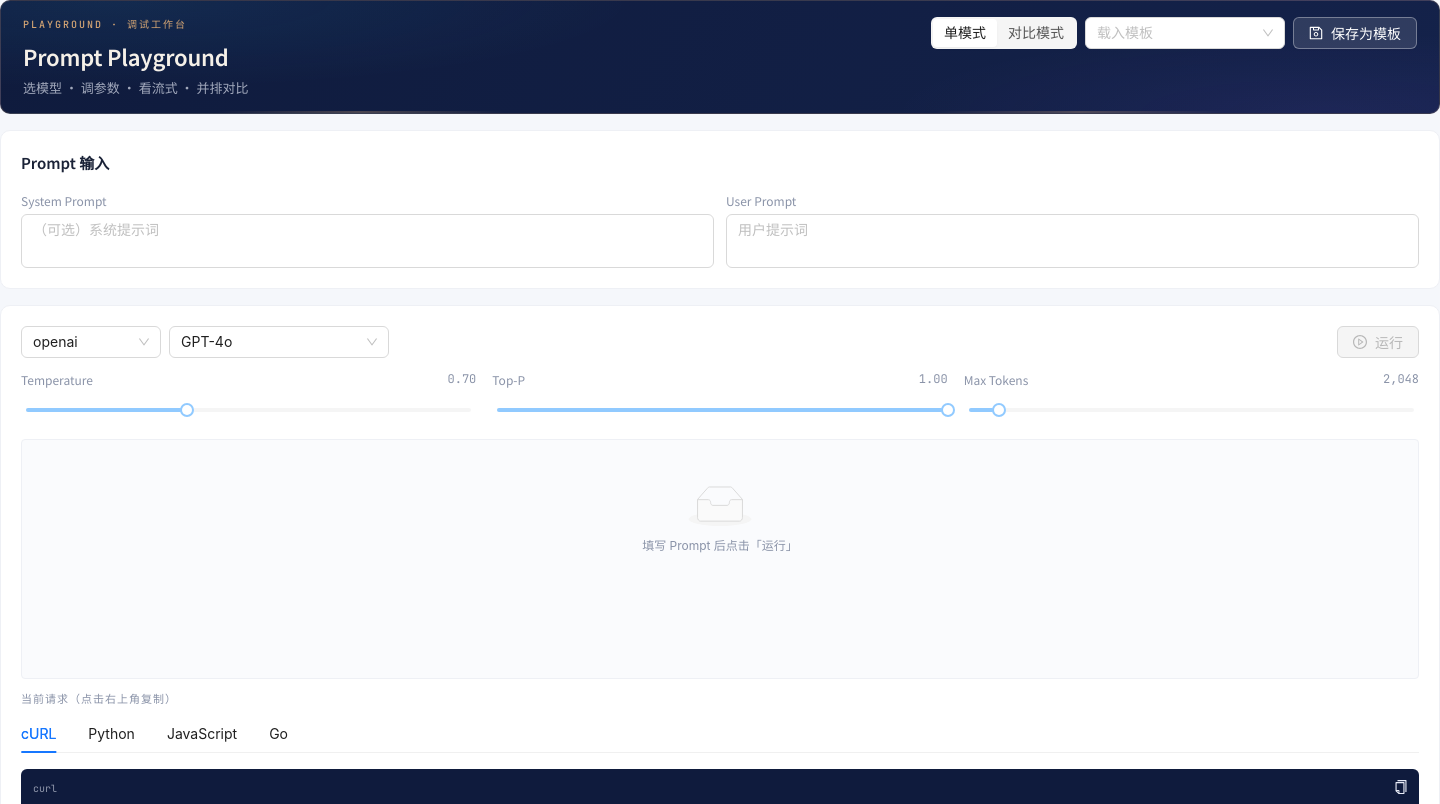
Test case: Playground — /playground › runs single mode and accumulates SSE chunks into output
Expected: the text "GPT-4o" is shown, [181, 333, 232, 350]
Type "hello playground" into the text box with test id "pg-user".
click(1072, 241); type("hello playground")  # box [726, 214, 1419, 268]
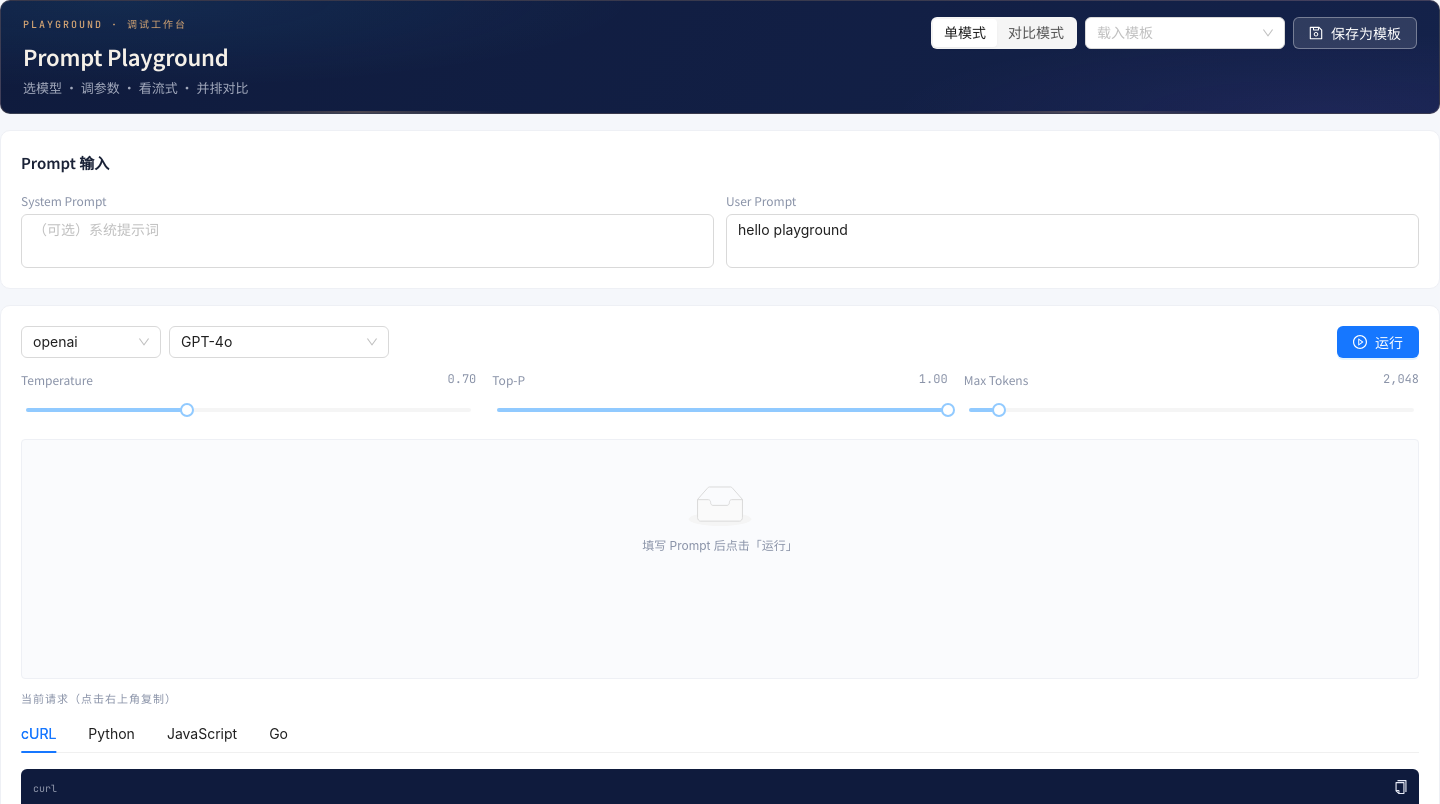
Click the button with test id "pg-run".
click(1378, 342)  # box [1337, 326, 1419, 358]
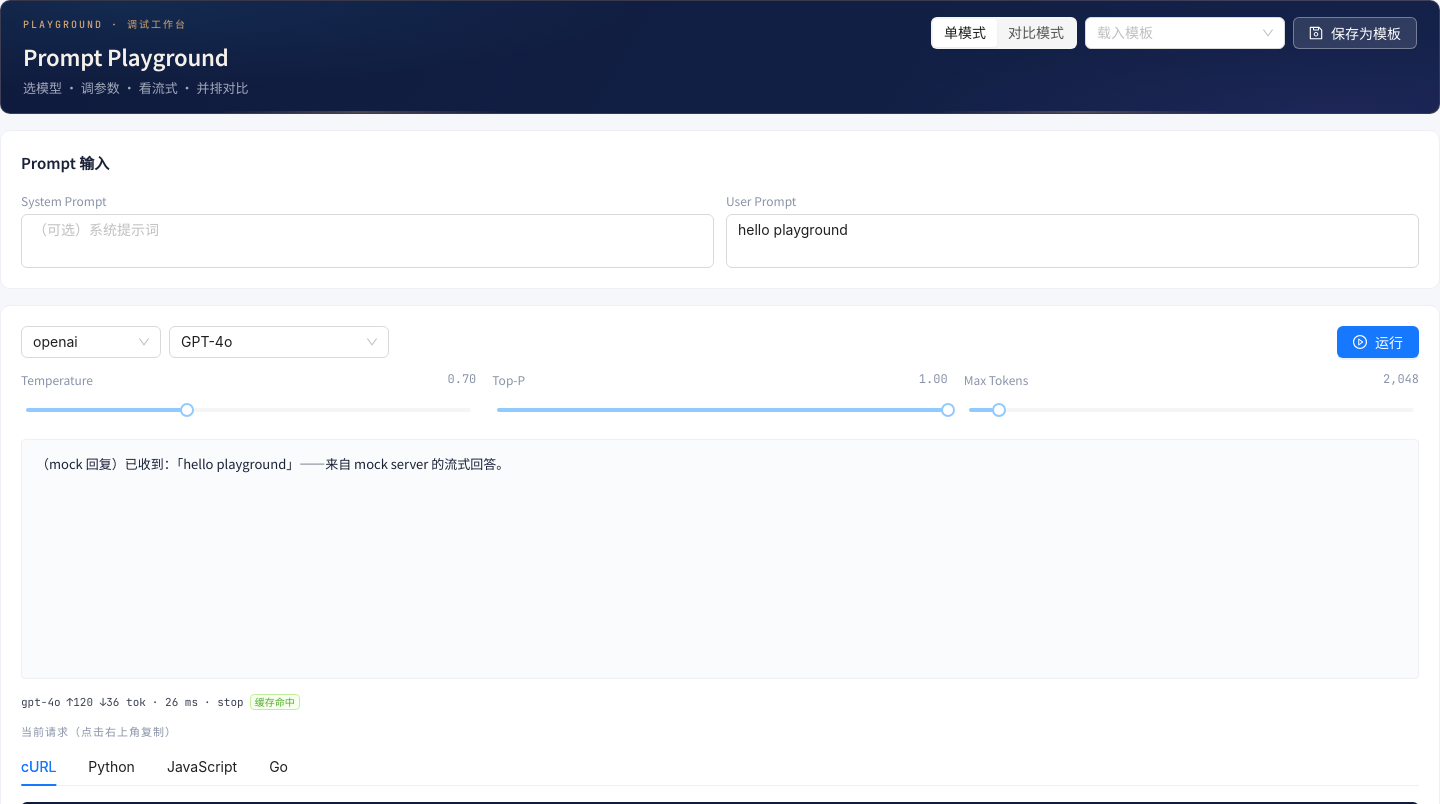
Now the text with test id "pg-output" reads "（mock 回复）已收到：「hello playground」——来自 mock server 的流式回答。", box [36, 454, 509, 473]
